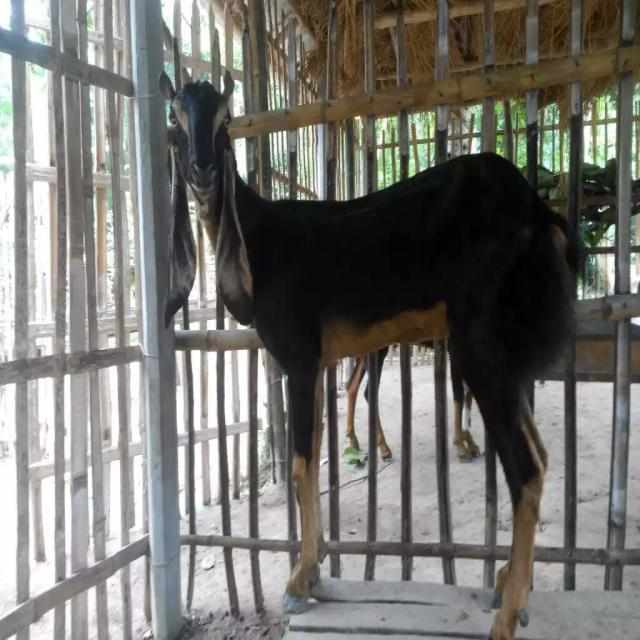Goat: (158, 36, 587, 637)
